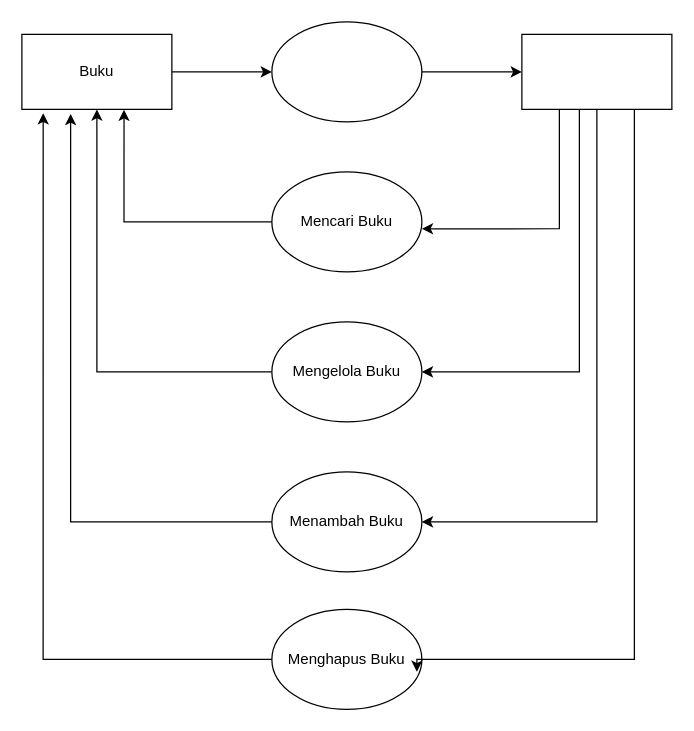
Some shapes in this 694 by 731 pixel diagram are drawn without their labels. The shapes that lost their labels are listed below. From the top down, each one's centre as x and y in pixels, then its label:
At point 346,71: "Melihat Buku".
At point 596,71: "Petugas Perpus".
